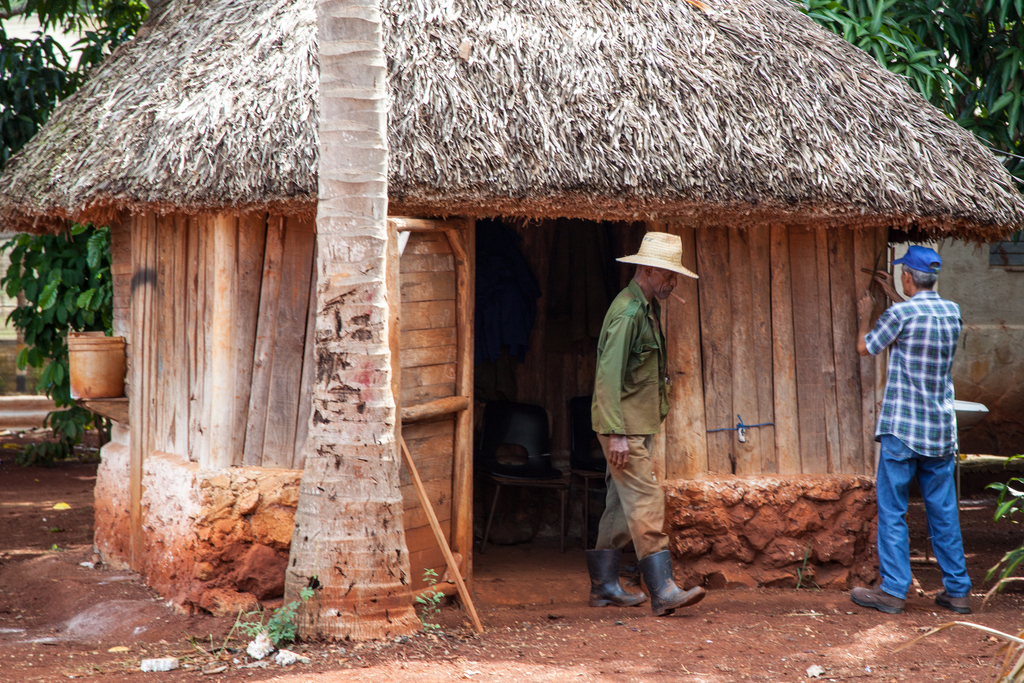Tree: (276, 0, 419, 643), (0, 0, 164, 464), (795, 0, 1024, 193)
